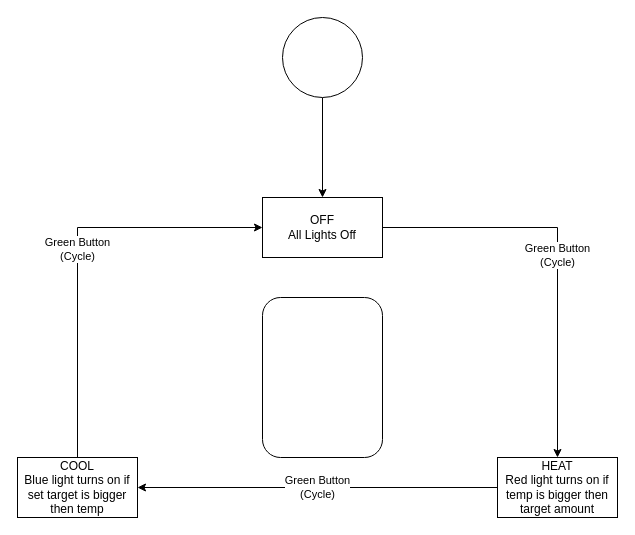
Some shapes in this 635 by 535 pixel diagram are drawn without their labels. Here are the shapes that lost their labels. From the top down, the centre of each, then its label:
At point 322,57: "Init".
At point 322,377: "Other Inputs: Red Button (Increase) Blue Button (Decrease)".
